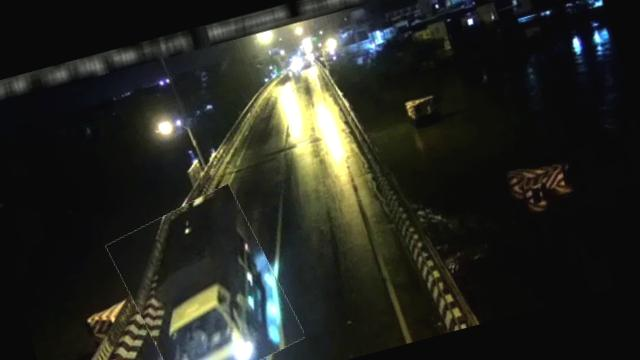Truck: (108, 183, 303, 360)
